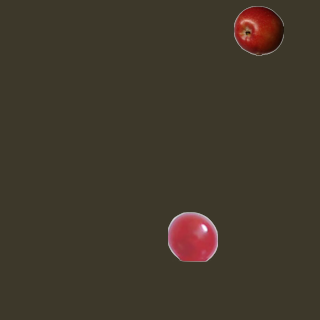Apple Braeburn: (233, 5, 283, 55)
Redcurrant: (167, 211, 217, 261)
